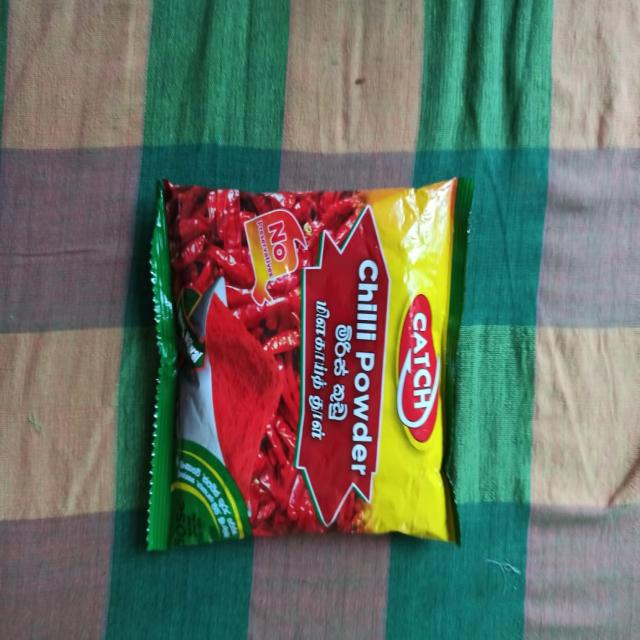Chilli Powder: (128, 160, 478, 587)
